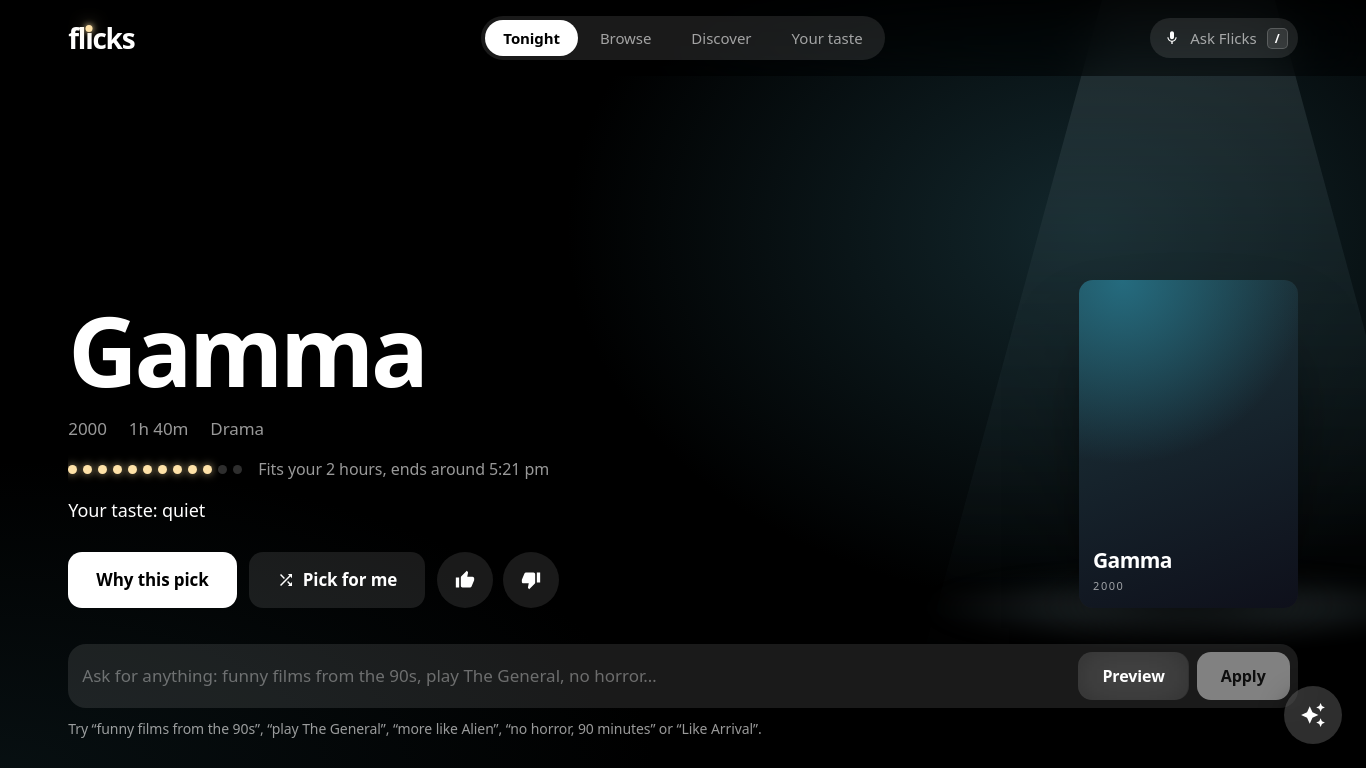
Scenario: “Pick for me” opens a random pick with its chance, and can draw from anything
This screenshot has width=1366, height=768.
Expected: the heading named "Gamma" is shown, [68,284,426,415]
Click the button "Pick for me".
click(337, 580)  # box [249,552,425,608]
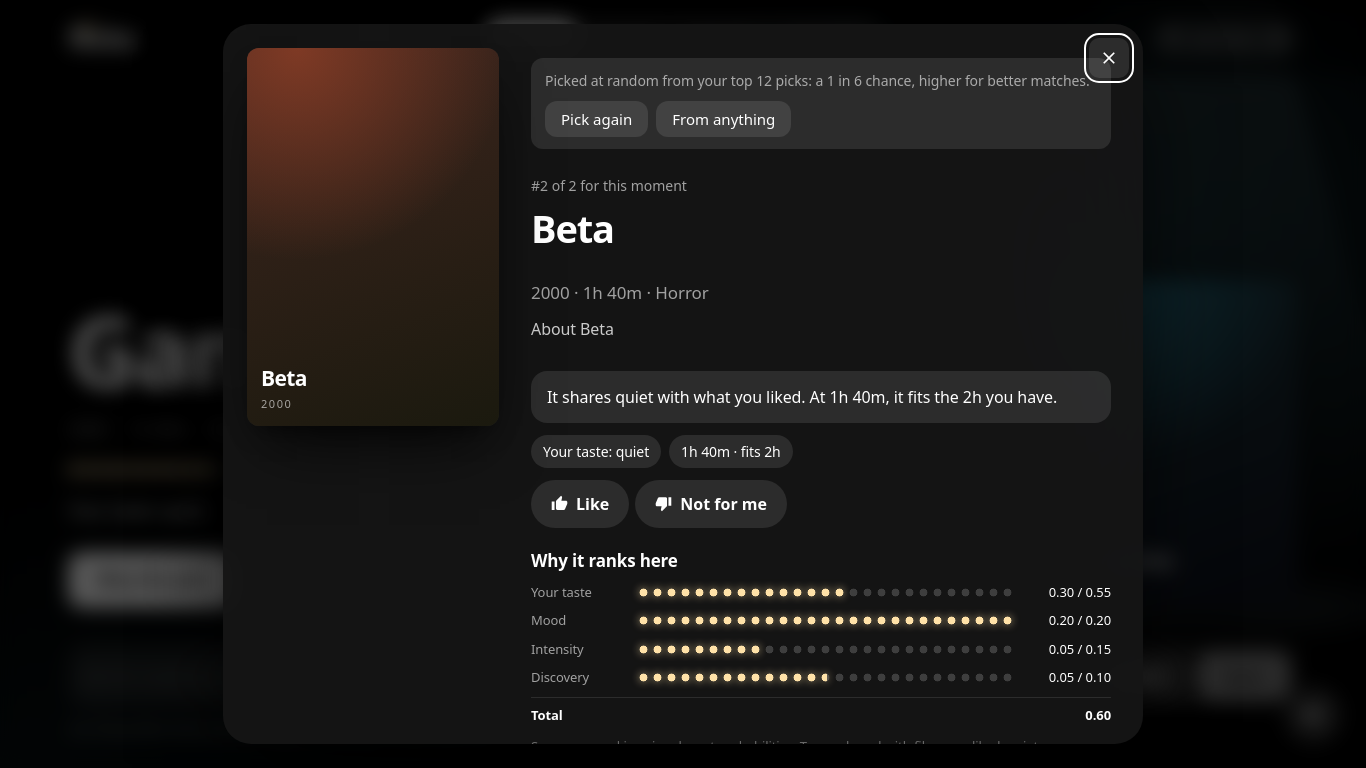
Now the message shows "Picked at random from your top 12 picks: a 1 in 6 chance", box [531,58,1111,149]
Click the button "From anything".
click(724, 119)  # box [656,101,791,137]
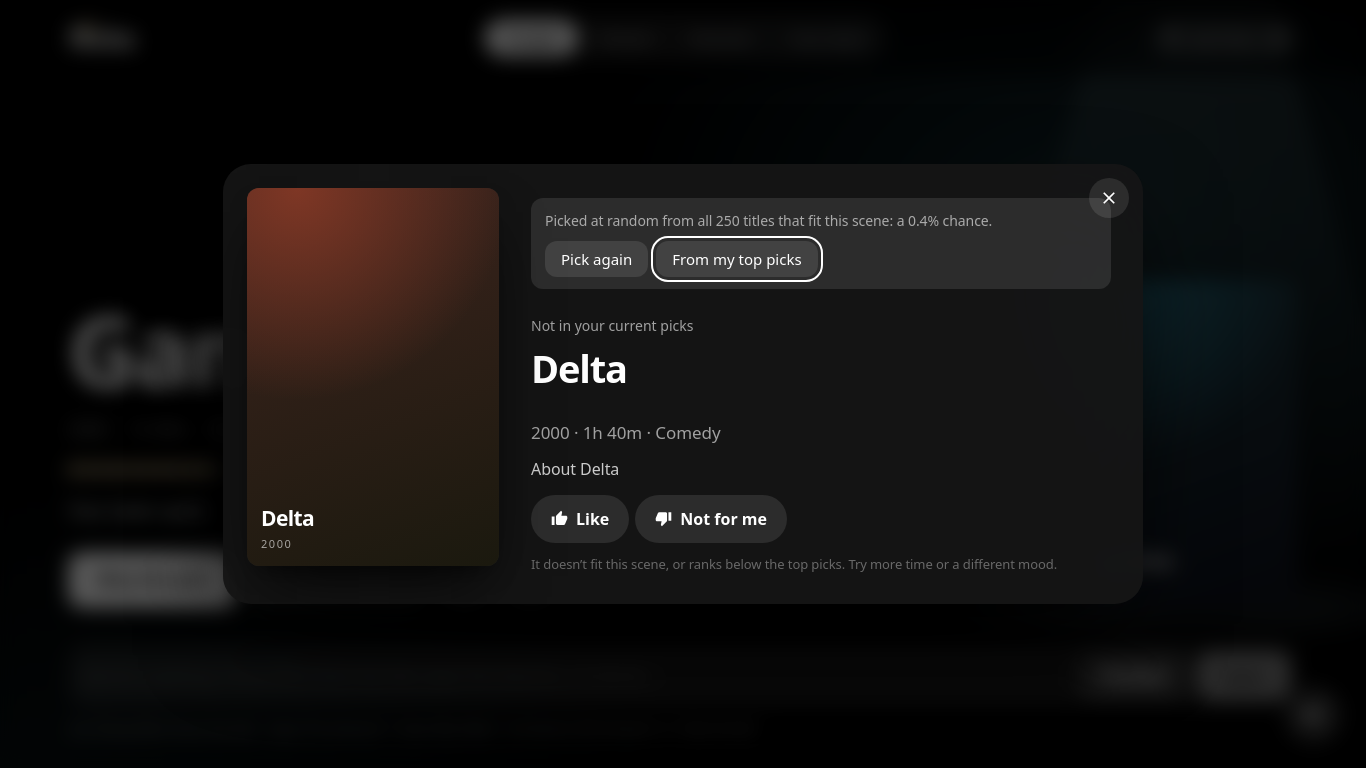
Now the message shows "all 250 titles that fit this scene: a 0.4% chance", box [531,198,1111,289]
